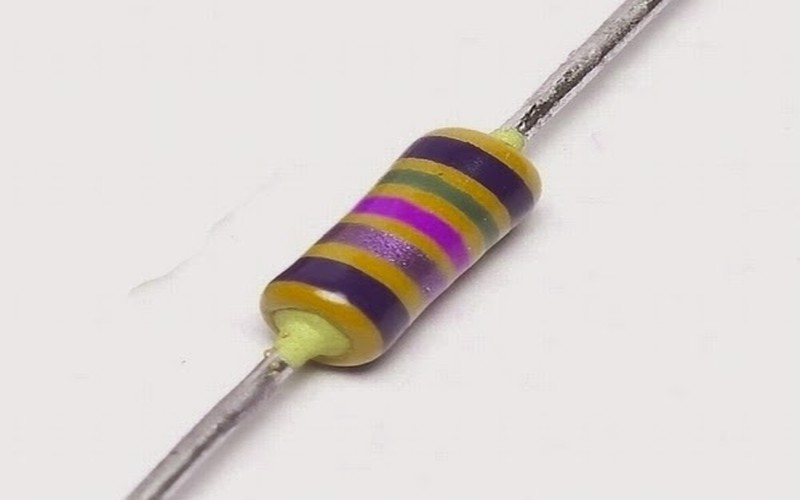Resistor: (211, 83, 563, 407)
